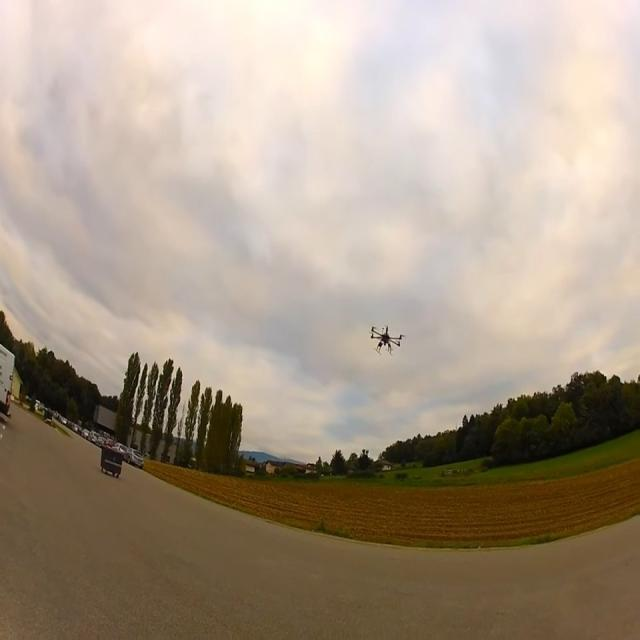drone: (369, 324, 404, 354)
